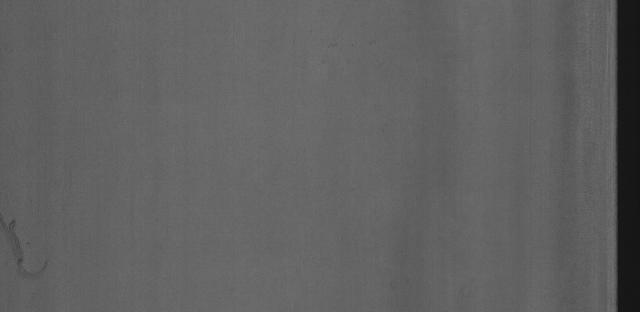water_spot: (0, 205, 49, 278)
